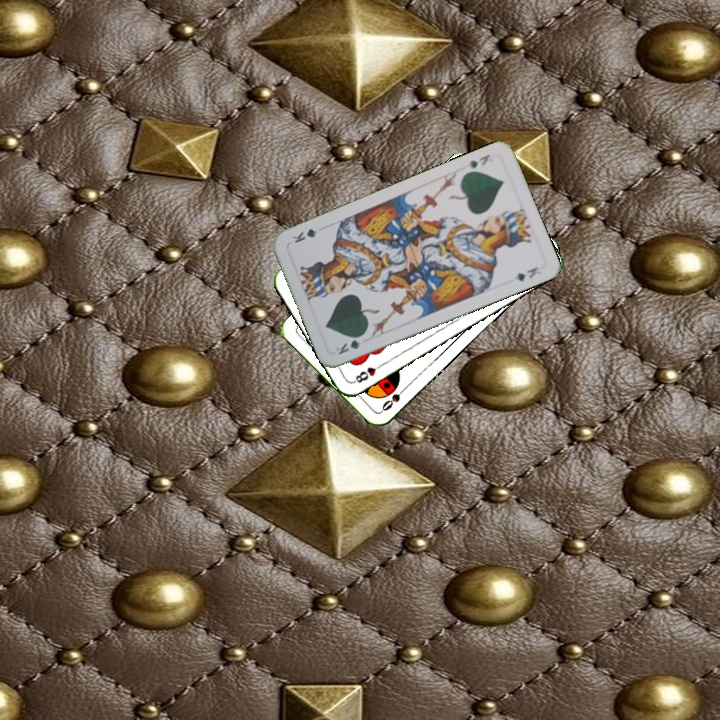GK: (331, 330, 368, 358), (462, 150, 493, 171)
H8: (349, 359, 386, 386)
SO: (378, 382, 410, 414)
